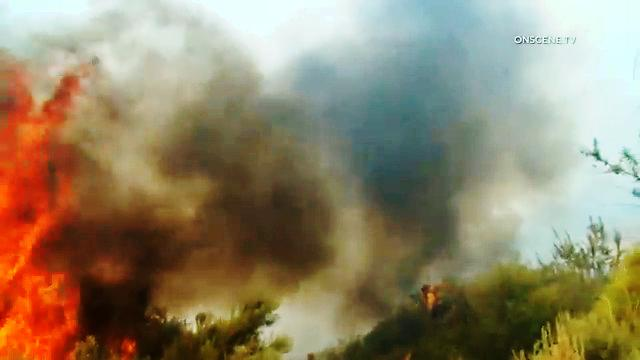smoke: (103, 6, 472, 247)
